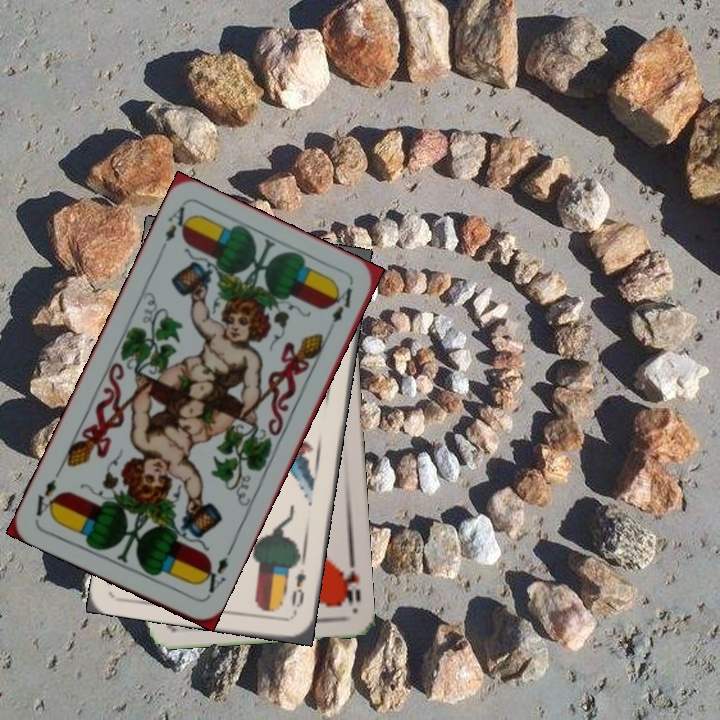EA: (155, 202, 194, 257), (196, 552, 231, 596)
EO: (287, 565, 309, 617)
HO: (336, 552, 364, 611)
